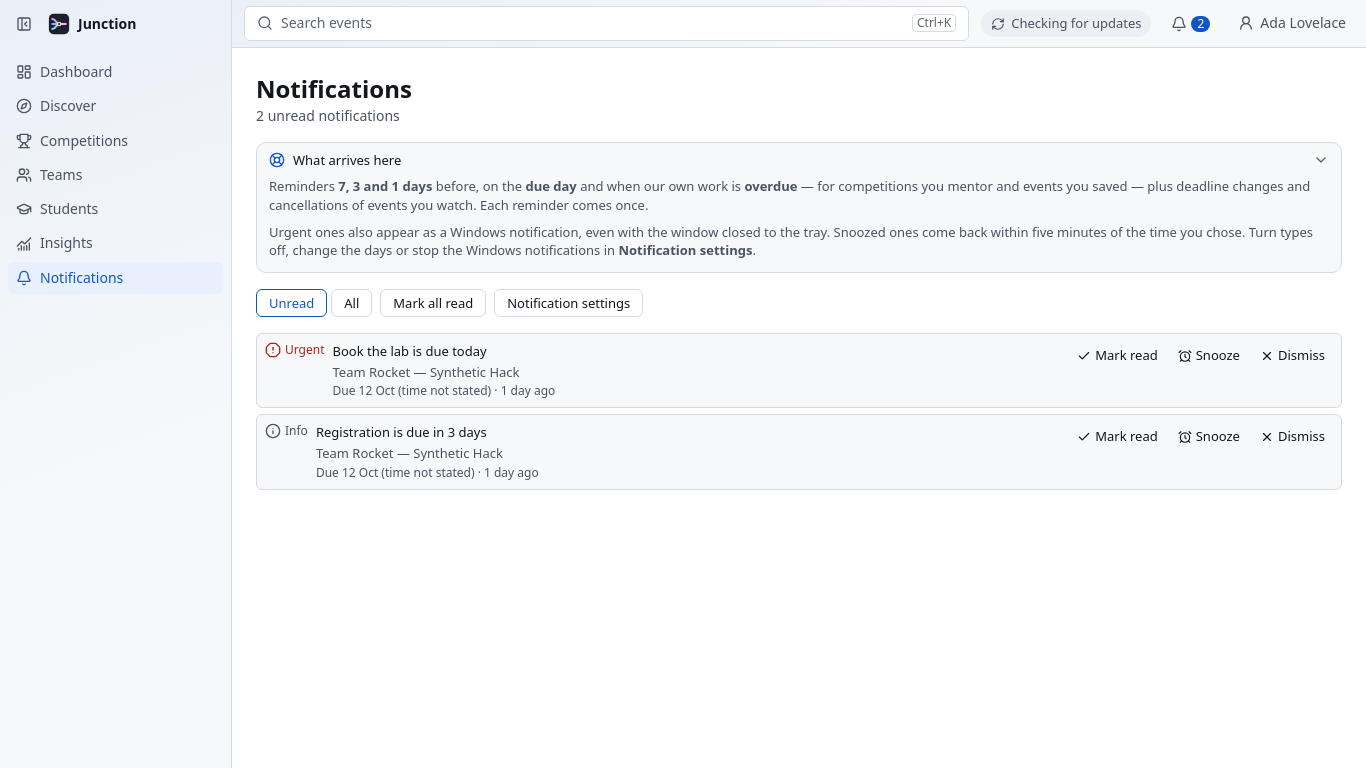
Test case: the Inbox › preferences: turn a type off, change its days and toasts, save
Expected: the navigation bar named "Main" is shown, [0, 0, 231, 302]
Click the button "Notification settings". click: coordinates (569, 303)
box: [494, 289, 643, 317]
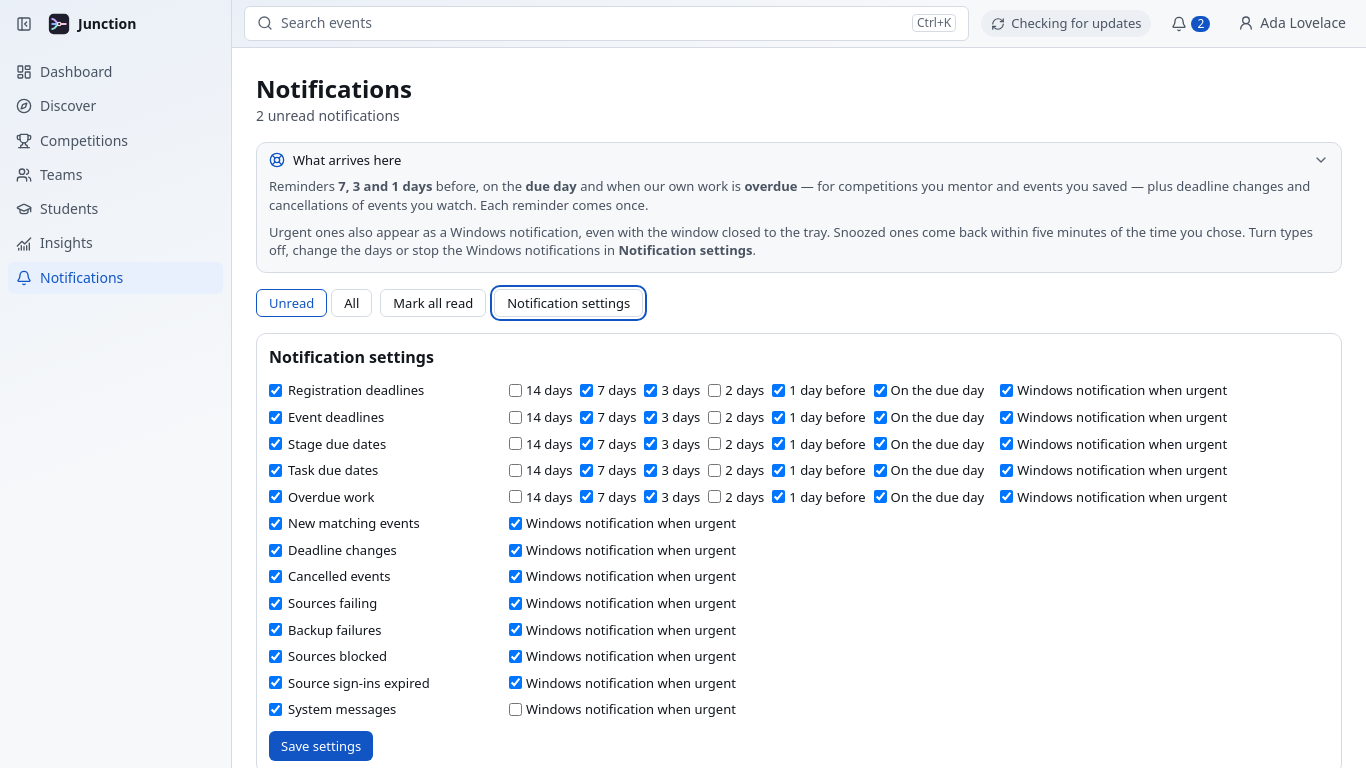
Click the checkbox labelled "Stage due dates". click: coordinates (276, 444)
box: [269, 437, 282, 450]
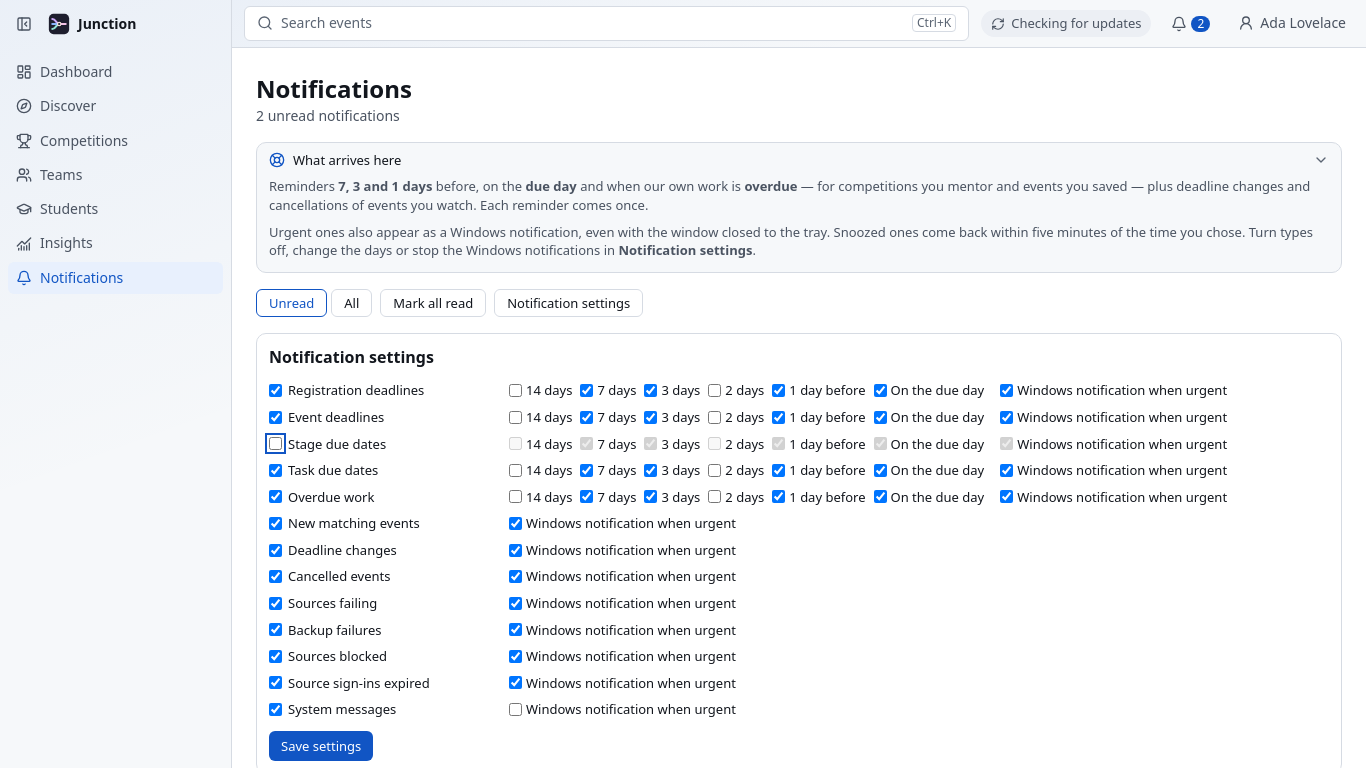
Click the checkbox labelled "14 days" next to "Task due dates". click: coordinates (516, 470)
box: [509, 464, 522, 477]
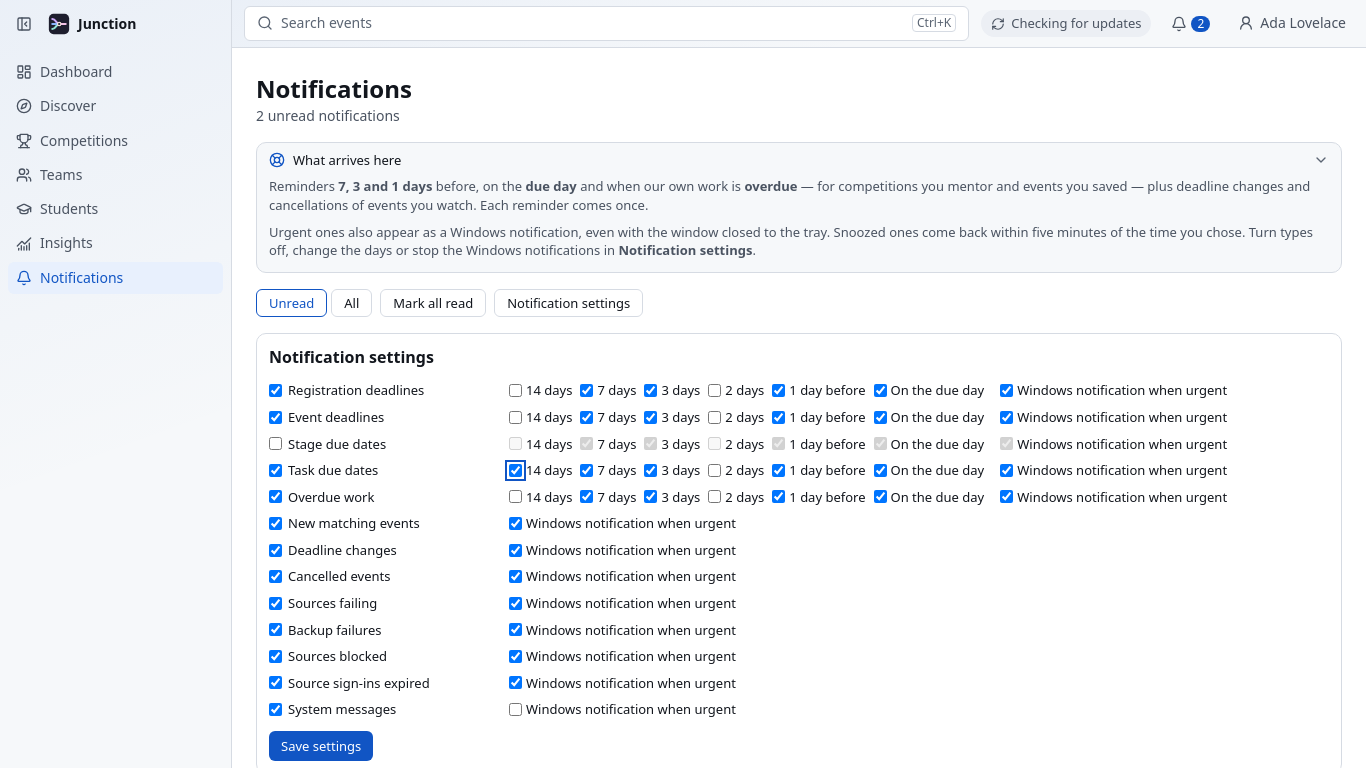
Click the button "Save settings". click: coordinates (321, 746)
box: [269, 731, 373, 761]
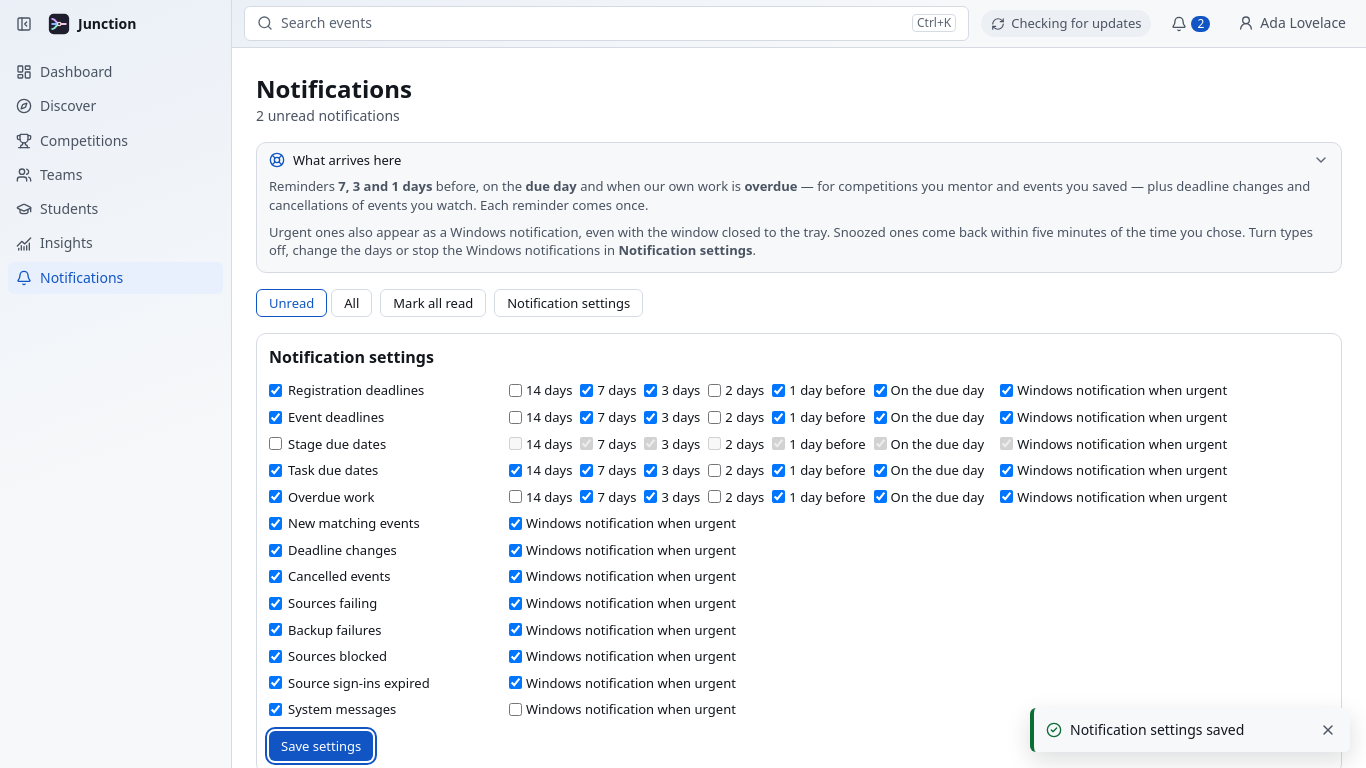
Result: the text "Notification settings saved" is shown at [1069, 719, 1244, 739]
